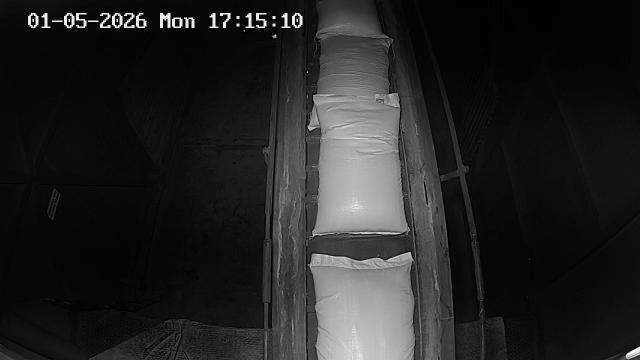bag: (313, 93, 410, 236), (310, 252, 416, 360), (310, 37, 390, 130), (316, 0, 389, 40)
